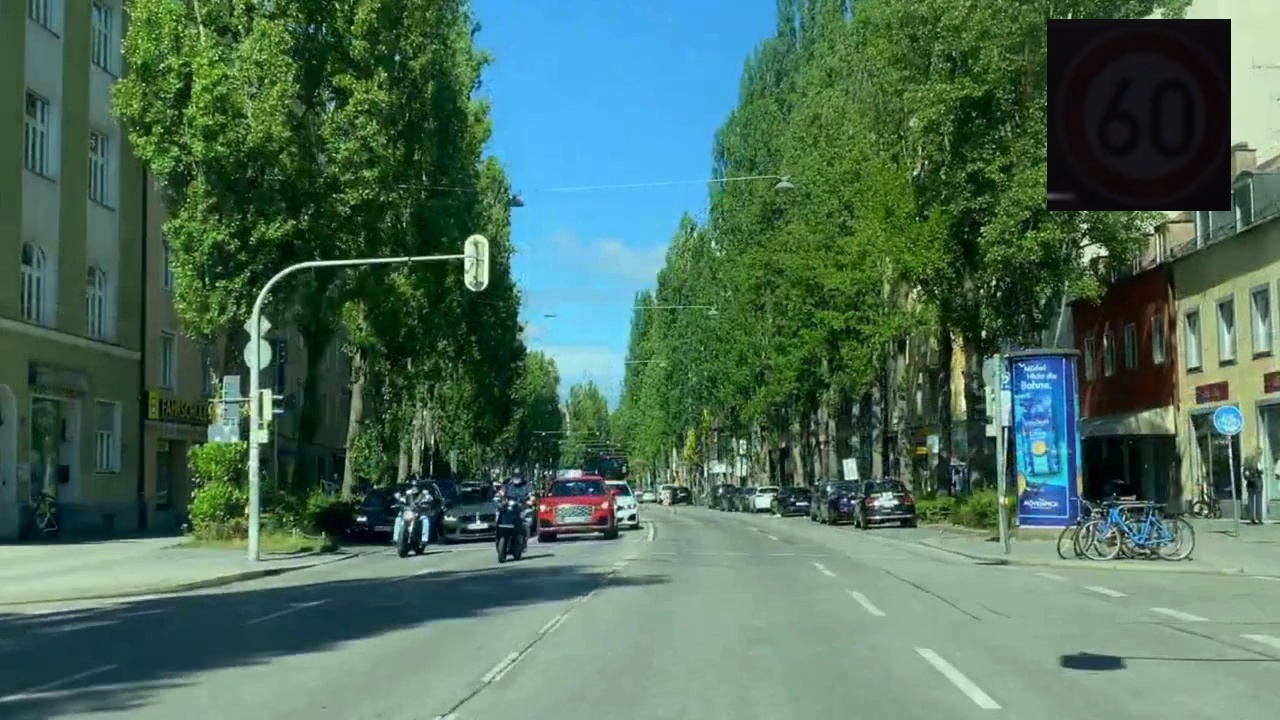Speed 60: (1047, 19, 1231, 211)
